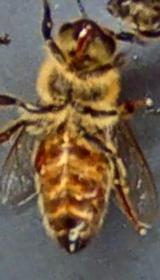varroa_mite: (26, 132, 56, 180)
